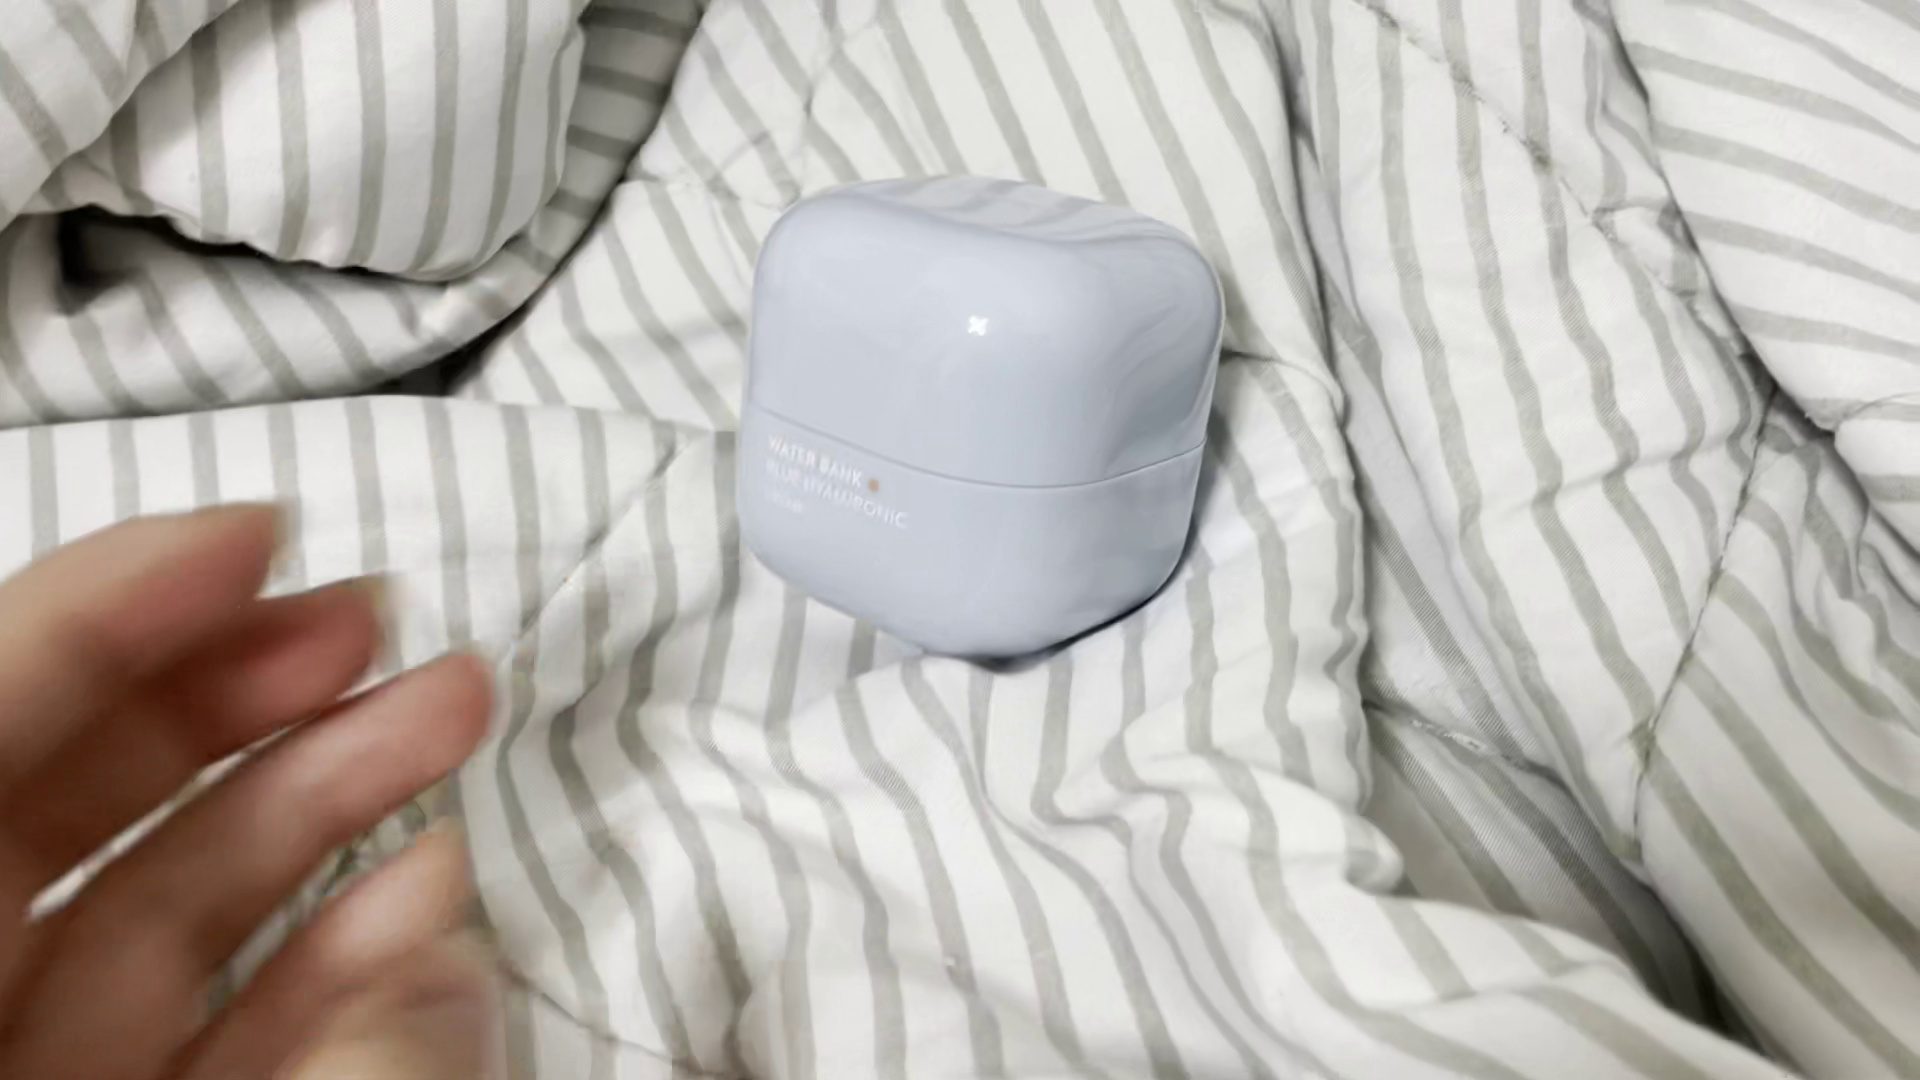cream: (740, 170, 1220, 662)
